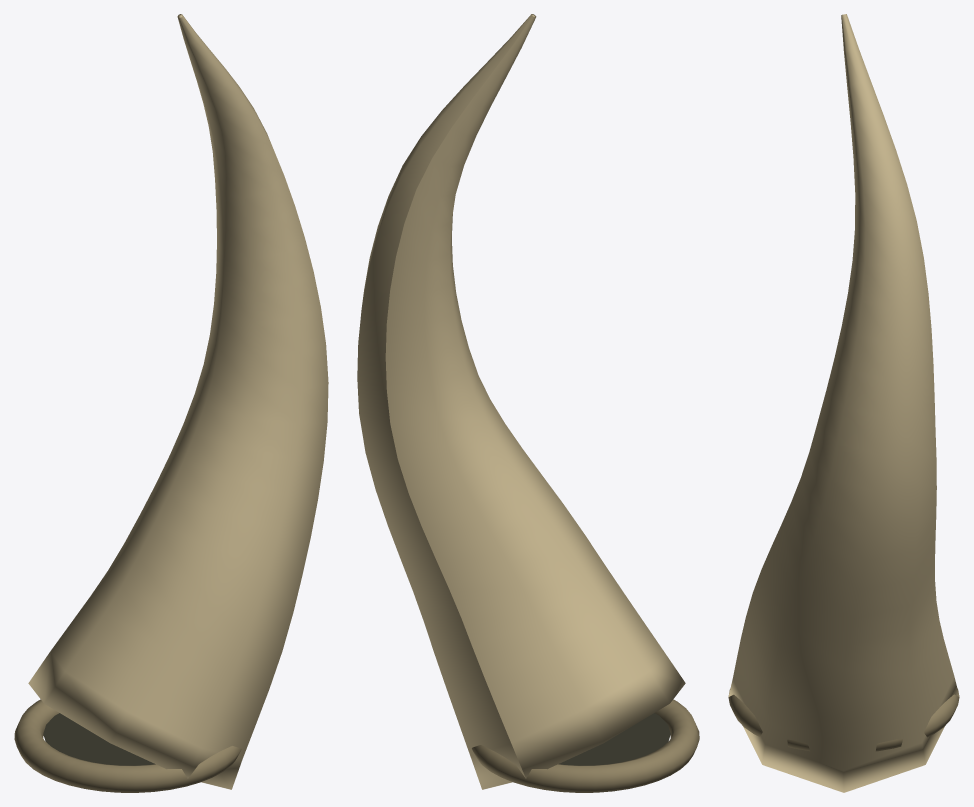
Rendered from props_p7__p7_horn.glb.
3 views of the same model, side by side, from view 1: azimuth 30°, elevation 25°; view 2: azimuth 150°, elevation 25°; view 3: azimuth 270°, elevation 25° (orthographic).
Visible parts, largest first — view 1: horn_wall, hollow_mouth, mouth_depth; view 2: horn_wall, hollow_mouth, mouth_depth; view 3: horn_wall, hollow_mouth.
Part boxes in pixels (x1,y1,x2,y2): horn_wall: (28,14,328,789); hollow_mouth: (14,699,241,792); mouth_depth: (43,713,155,765); horn_wall: (357,14,685,789); hollow_mouth: (472,699,699,792); mouth_depth: (558,713,670,765); horn_wall: (728,14,959,792); hollow_mouth: (728,688,959,751).
Bounding box in the file's own units: 0.1082 × 0.2582 × 0.071.
